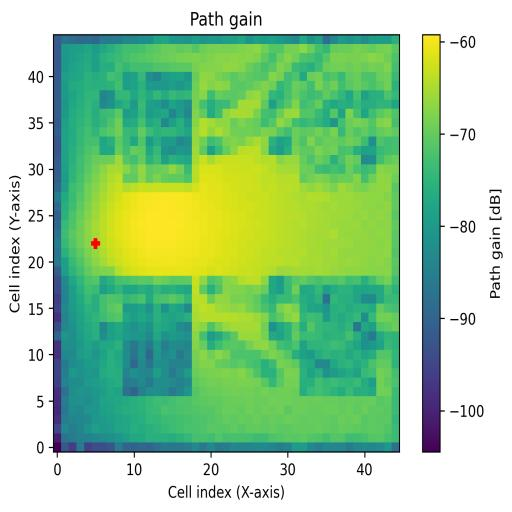Concrete: (300, 72, 377, 184)
Glass: (123, 72, 192, 183)
Metal: (299, 284, 377, 396)
Wood: (123, 284, 191, 396)
